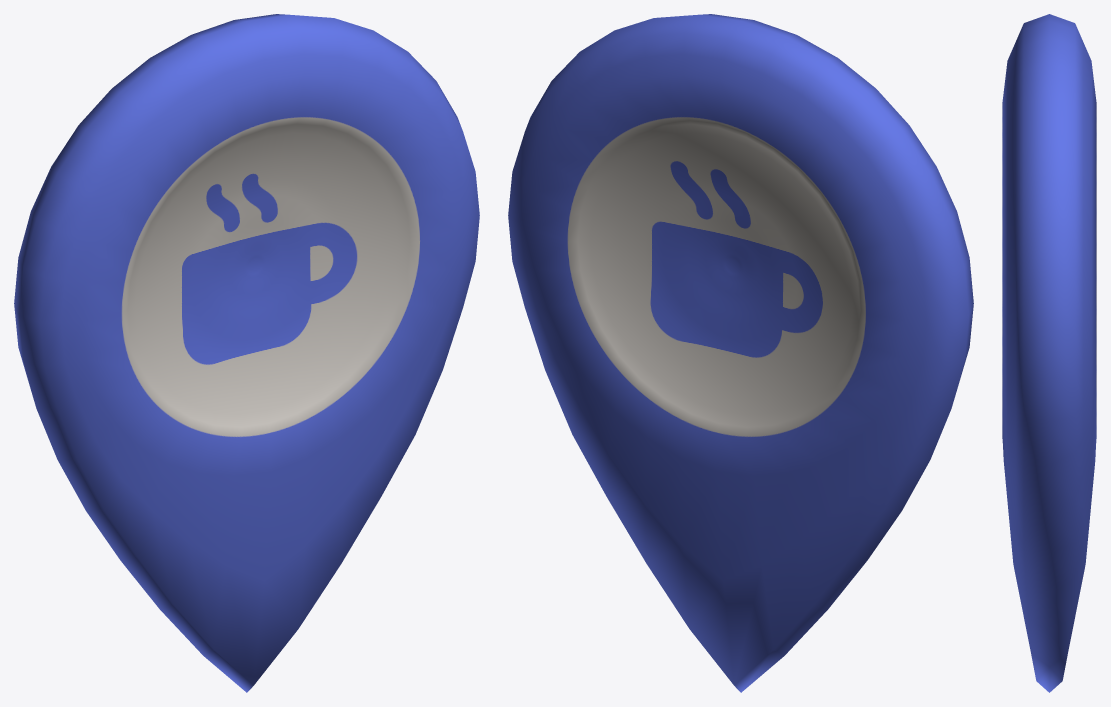
The model's file is asset.gltf.
3 renders of one model, left to right at view 1: azimuth 30°, elevation 25°; view 2: azimuth 150°, elevation 25°; view 3: azimuth 270°, elevation 25°, orthographic. The views are drawn at different scales.
Parts seen in each view (by area): view 1: Pointer; view 2: Pointer; view 3: Pointer.
Part boxes in pixels (left/top/right/bottom): Pointer: left=14, top=14, right=479, bottom=692; Pointer: left=508, top=14, right=973, bottom=692; Pointer: left=1002, top=14, right=1096, bottom=692.
Size of the model in its own units: 2.2 by 3.1 by 0.4039.
Materials: 1 (1 with a texture image).
